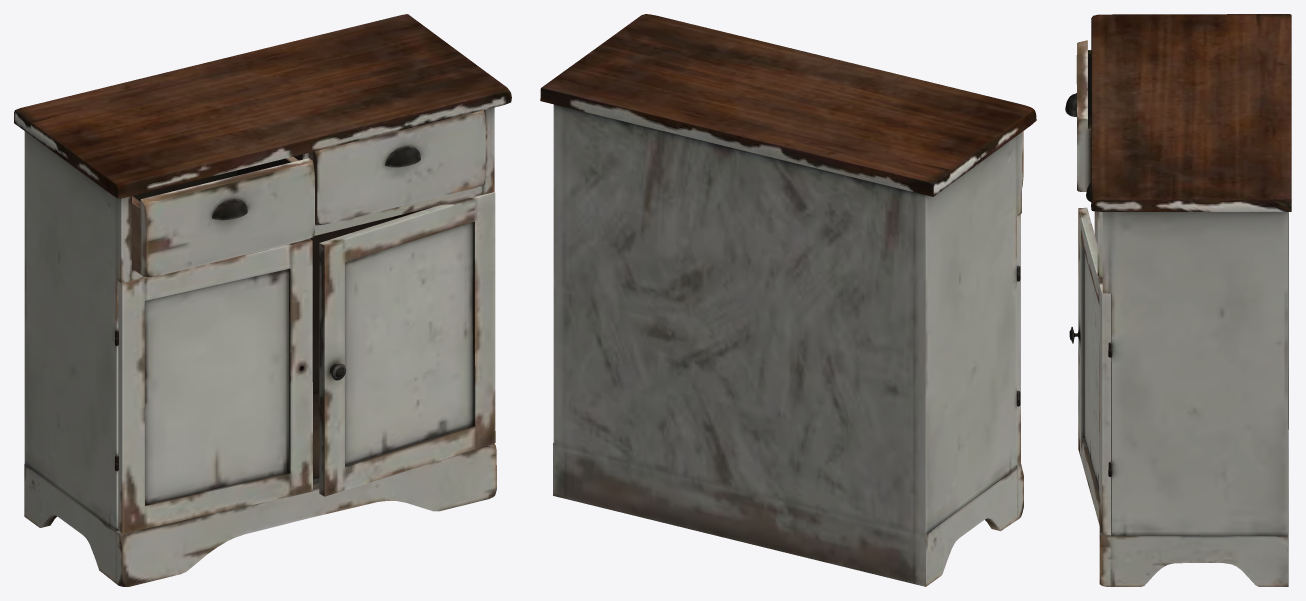
The model's file is painted_wooden_cabinet.glb.
3 renders of one model, left to right at view 1: azimuth 30°, elevation 25°; view 2: azimuth 150°, elevation 25°; view 3: azimuth 270°, elevation 25°, orthographic. The views are drawn at different scales.
Visible parts, largest first — view 1: painted_wooden_cabinet; view 2: painted_wooden_cabinet; view 3: painted_wooden_cabinet.
Boxes of the visible parts, left/top/right/bottom form: painted_wooden_cabinet: left=14, top=14, right=511, bottom=586; painted_wooden_cabinet: left=540, top=14, right=1036, bottom=586; painted_wooden_cabinet: left=1065, top=14, right=1291, bottom=586.
Bounding box in the file's own units: 1.19 × 1.18 × 0.6167.
Materials: 1 (1 with a texture image).
